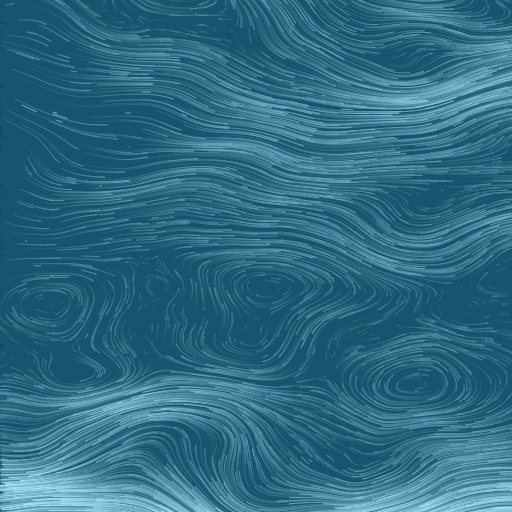eddy: (211, 259, 317, 356), (363, 346, 470, 415), (8, 278, 91, 339)
